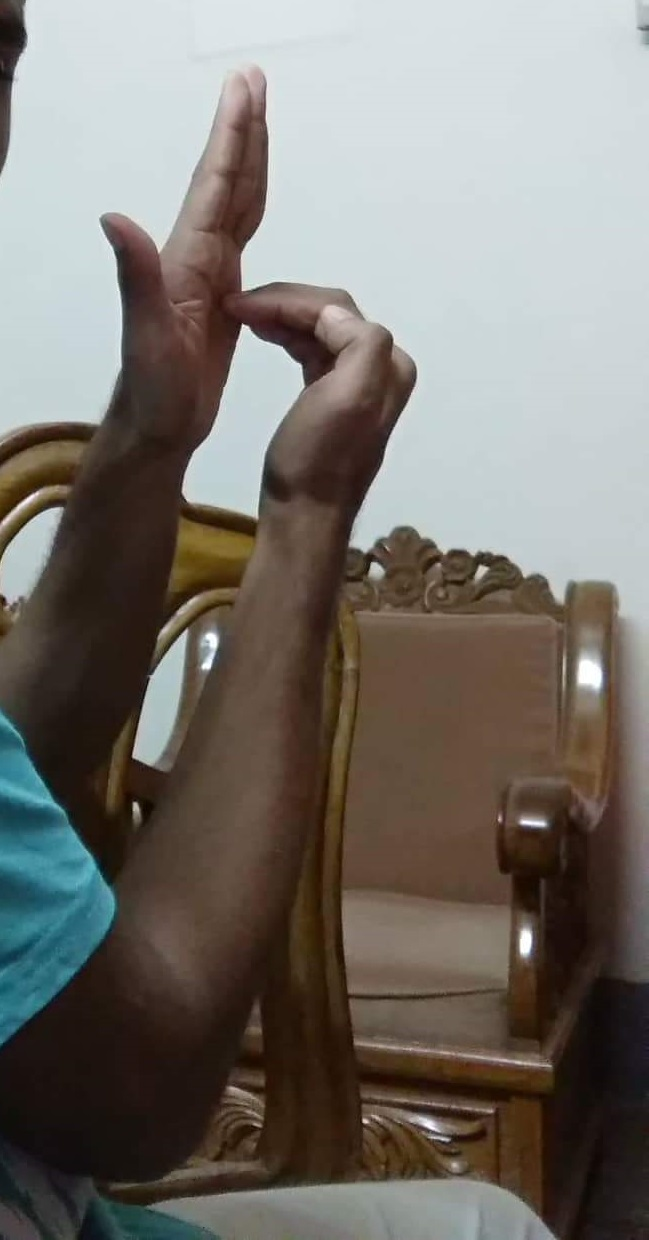ga: (112, 67, 412, 531)
